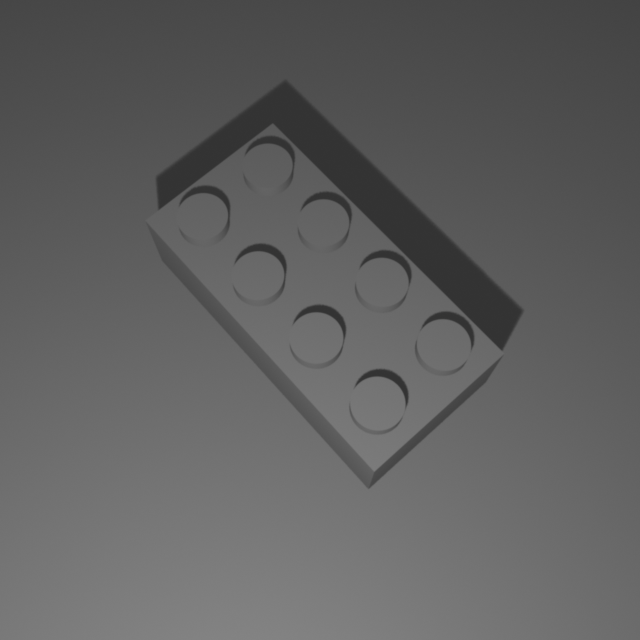lego_2x4: (142, 114, 508, 489)
